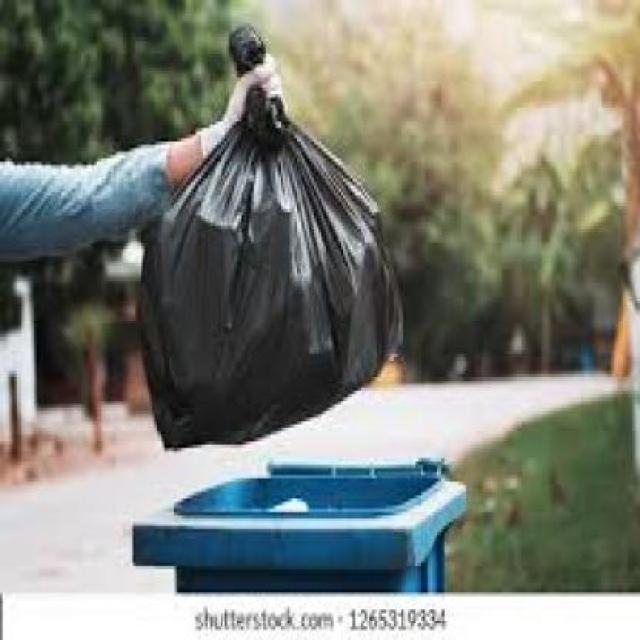garbage: (132, 37, 398, 438)
